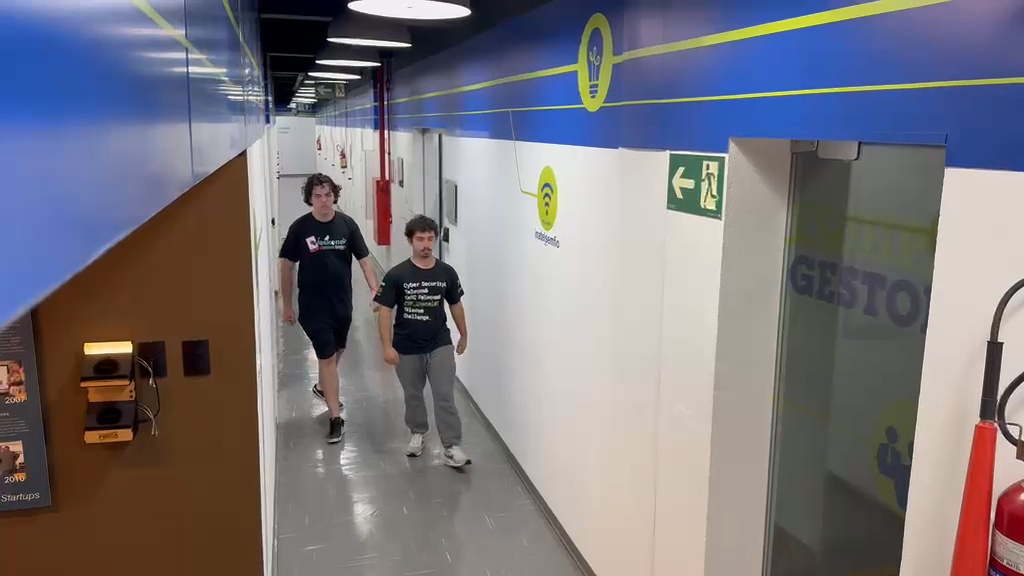person: (277, 174, 384, 442), (371, 214, 472, 472)
